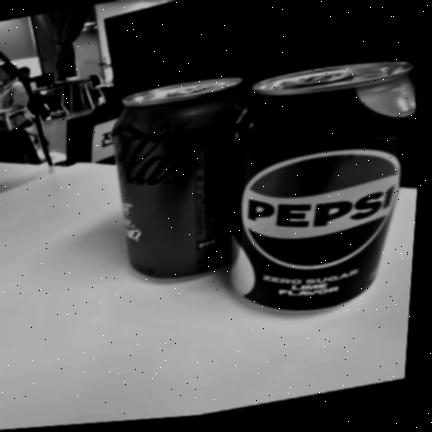can_coke_zero: (113, 77, 248, 279)
can_pepsi_zero: (230, 62, 414, 312)
